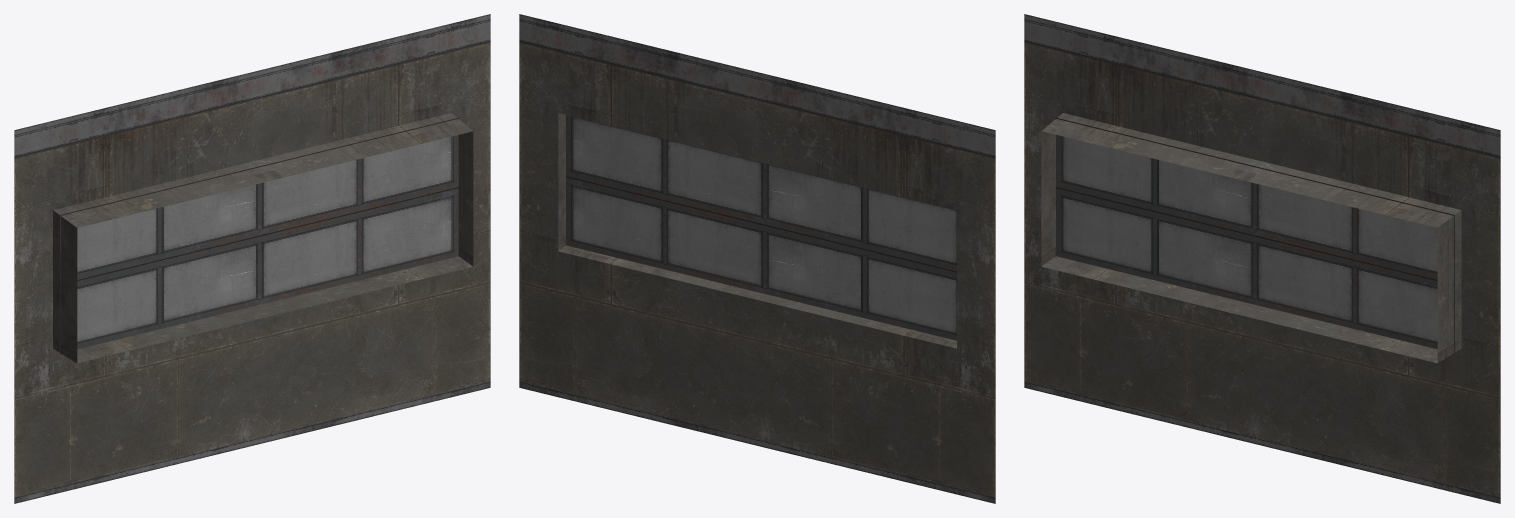
The model's file is ARC0910286.fbx.
3 renders of one model, left to right at view 1: azimuth 30°, elevation 25°; view 2: azimuth 150°, elevation 25°; view 3: azimuth 330°, elevation 25°, orthographic.
Parts seen in each view (by area): view 1: smARC0910286; view 2: smARC0910286; view 3: smARC0910286.
Boxes of the visible parts, x1,y1,x2,y2 form: smARC0910286: [14, 14, 490, 503]; smARC0910286: [519, 14, 995, 503]; smARC0910286: [1024, 14, 1500, 503].
Bounding box in the file's own units: 400 × 300 × 33.44.
Materials: 1 (1 with a texture image).
